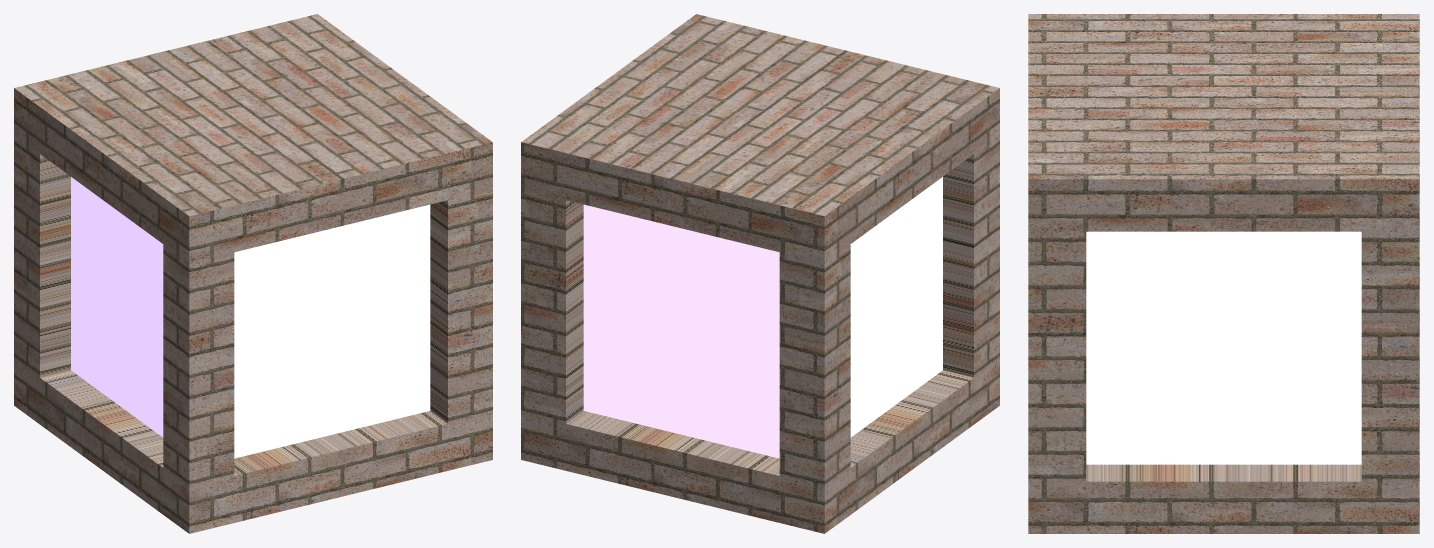
The model's file is block_grey.glb.
3 views of the same model, side by side, from view 1: azimuth 30°, elevation 25°; view 2: azimuth 150°, elevation 25°; view 3: azimuth 270°, elevation 25° (orthographic). The views are drawn at different scales.
Parts seen in each view (by area): view 1: Cube; view 2: Cube; view 3: Cube.
Part boxes in pixels (<box>): Cube: <box>14,14,492,533</box>; Cube: <box>521,14,999,533</box>; Cube: <box>1028,14,1419,533</box>.
Size of the model in its own units: 2 by 2 by 2.
Materials: 2 (1 with a texture image).
